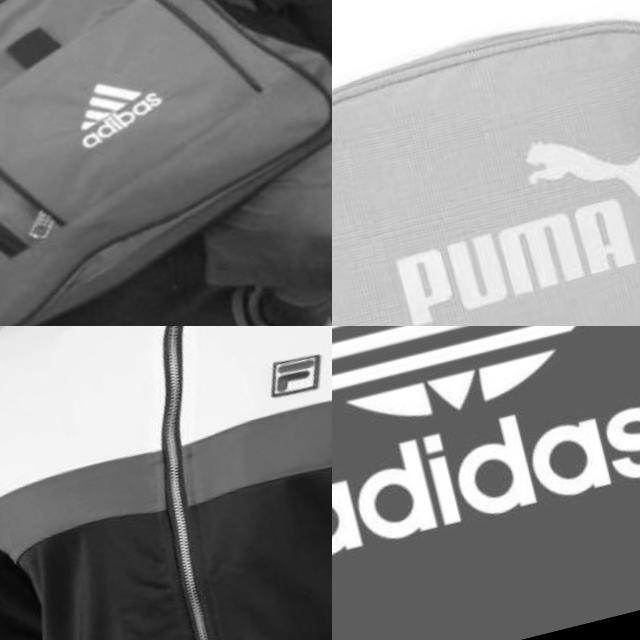ADIDAS_fake: (39, 49, 194, 169)
ADIDAS_original: (332, 326, 640, 588), (332, 365, 640, 580), (332, 326, 640, 465)
FILA_original: (237, 326, 332, 433)
PUMA_original: (344, 87, 640, 326)
